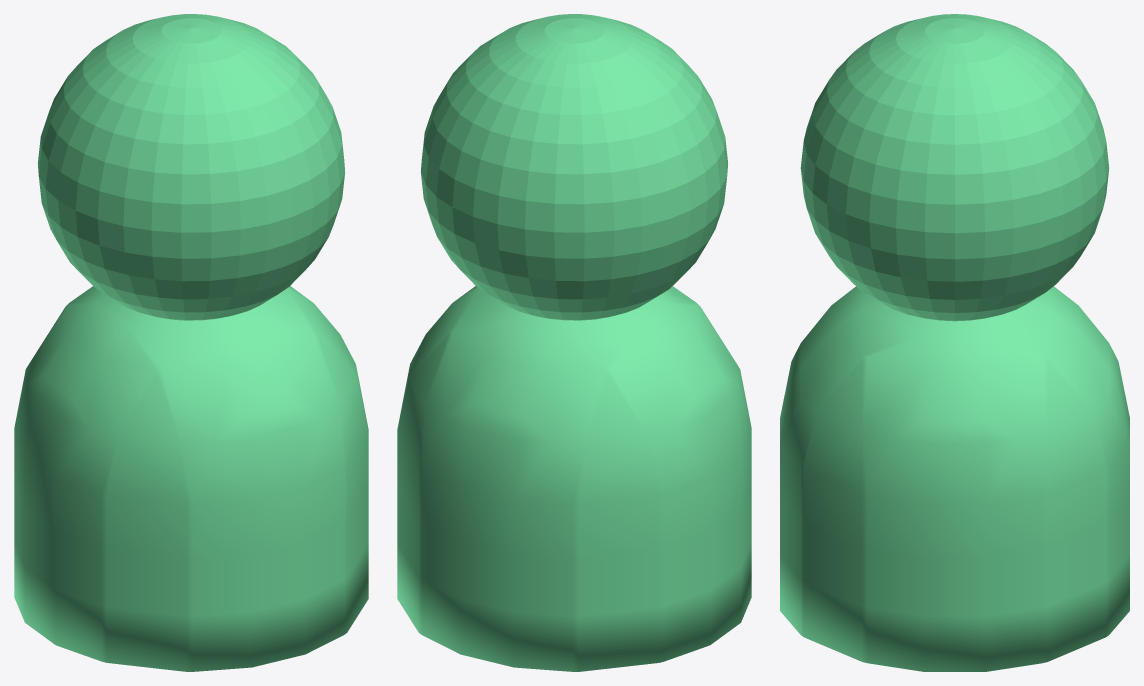
The model's file is player.glb.
The picture shows the model from 3 angles, left to right: view 1: azimuth 30°, elevation 25°; view 2: azimuth 150°, elevation 25°; view 3: azimuth 270°, elevation 25°; orthographic projection.
Visible parts, largest first — view 1: Mball.001; view 2: Mball.001; view 3: Mball.001.
Boxes of the visible parts, x1=… form: Mball.001: x1=14, y1=14, x2=368, y2=671; Mball.001: x1=397, y1=14, x2=751, y2=671; Mball.001: x1=780, y1=14, x2=1129, y2=671.
Bounding box in the file's own units: 0.5667 × 1.02 × 0.5667.
